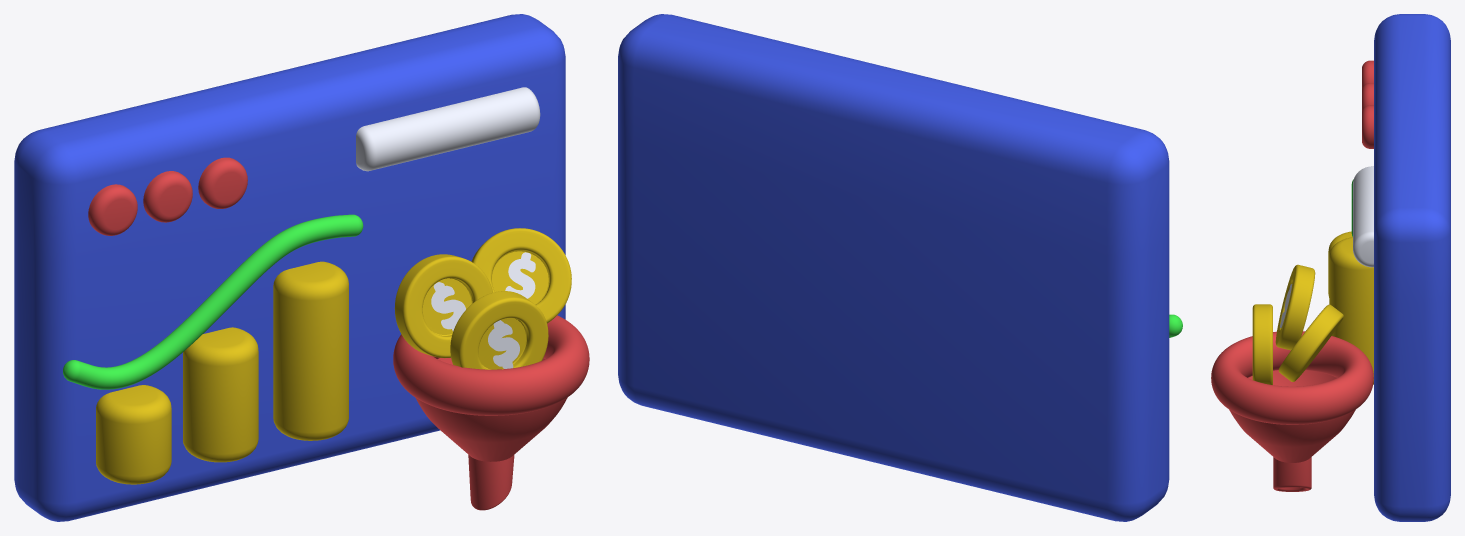
3 renders of one model, left to right at view 1: azimuth 30°, elevation 25°; view 2: azimuth 150°, elevation 25°; view 3: azimuth 270°, elevation 25°, orthographic. The views are drawn at different scales.
Parts seen in each view (by area): view 1: Cube.025, Cylinder.084, BezierCircle.002, Cylinder.083, Cylinder.079, NurbsPath.004, Cylinder.085, Cylinder.087, Cylinder.080, Cylinder.086, Cylinder.082, Cylinder.088 (+3 smaller); view 2: Cube.025; view 3: Cube.025, BezierCircle.002, Cylinder.087, Cylinder.084, Cylinder.086, Cylinder.079, Cylinder.088, Cylinder.082, Cylinder.080.
Boxes of the visible parts, x1=… form: Cube.025: x1=14, y1=14, x2=565, y2=521; Cylinder.084: x1=273, y1=261, x2=348, y2=440; BezierCircle.002: x1=393, y1=315, x2=589, y2=415; Cylinder.083: x1=183, y1=327, x2=258, y2=462; Cylinder.079: x1=356, y1=87, x2=540, y2=171; NurbsPath.004: x1=63, y1=214, x2=363, y2=389; Cylinder.085: x1=96, y1=385, x2=171, y2=484; Cylinder.087: x1=415, y1=358, x2=567, y2=510; Cylinder.080: x1=88, y1=157, x2=247, y2=235; Cylinder.086: x1=394, y1=254, x2=492, y2=358; Cylinder.082: x1=450, y1=291, x2=548, y2=369; Cylinder.088: x1=471, y1=228, x2=571, y2=323; Cube.025: x1=618, y1=14, x2=1169, y2=521; Cube.025: x1=1374, y1=14, x2=1450, y2=521; BezierCircle.002: x1=1211, y1=331, x2=1373, y2=424; Cylinder.087: x1=1229, y1=370, x2=1355, y2=491; Cylinder.084: x1=1329, y1=237, x2=1373, y2=384; Cylinder.086: x1=1275, y1=264, x2=1315, y2=350; Cylinder.079: x1=1353, y1=166, x2=1373, y2=267; Cylinder.088: x1=1278, y1=304, x2=1343, y2=381; Cylinder.082: x1=1252, y1=304, x2=1272, y2=384; Cylinder.080: x1=1362, y1=60, x2=1373, y2=148.
Size of the model in its own units: 4.56 by 3.32 by 2.16.
